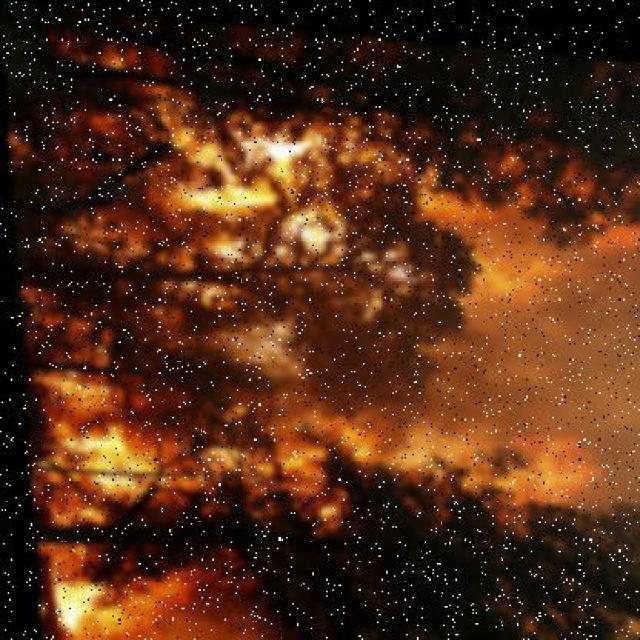fire: (14, 127, 640, 640)
